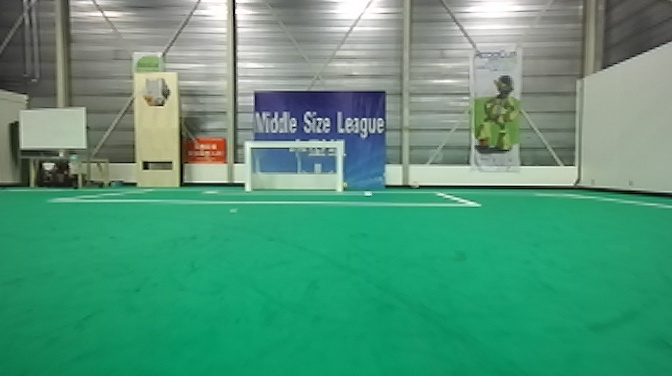goalpost: (326, 135, 346, 192), (239, 138, 260, 192)
